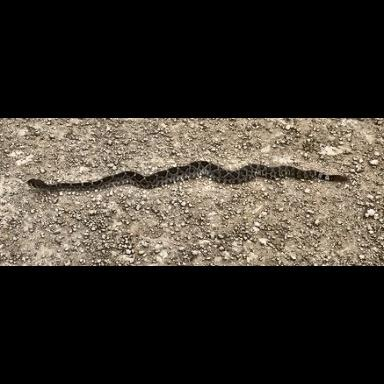snake: (28, 165, 334, 198)
